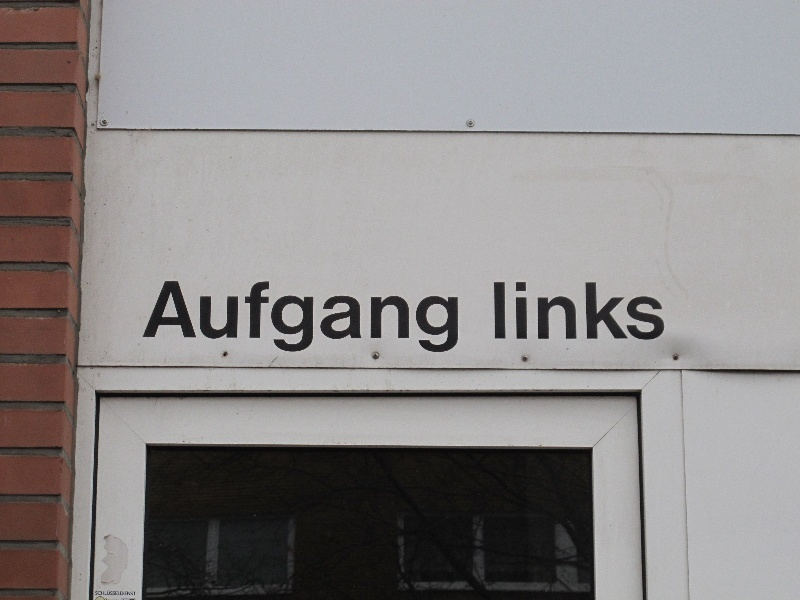text: (177, 282, 192, 355), (193, 282, 208, 355), (209, 282, 224, 355), (225, 282, 240, 355), (241, 282, 256, 355), (257, 282, 272, 355), (273, 282, 288, 355), (289, 282, 304, 355), (305, 282, 320, 355), (321, 282, 336, 355), (337, 282, 352, 355), (353, 282, 368, 355), (369, 282, 384, 355), (385, 282, 400, 355), (401, 282, 416, 355), (417, 282, 432, 355), (433, 282, 448, 355), (497, 282, 512, 343), (513, 282, 528, 343), (529, 282, 544, 343), (545, 282, 560, 343), (561, 282, 576, 343), (577, 282, 592, 343), (593, 282, 608, 343), (609, 282, 624, 343), (625, 282, 640, 343), (641, 282, 656, 343), (165, 282, 176, 355), (449, 282, 459, 355), (657, 282, 666, 343), (494, 282, 496, 343)
